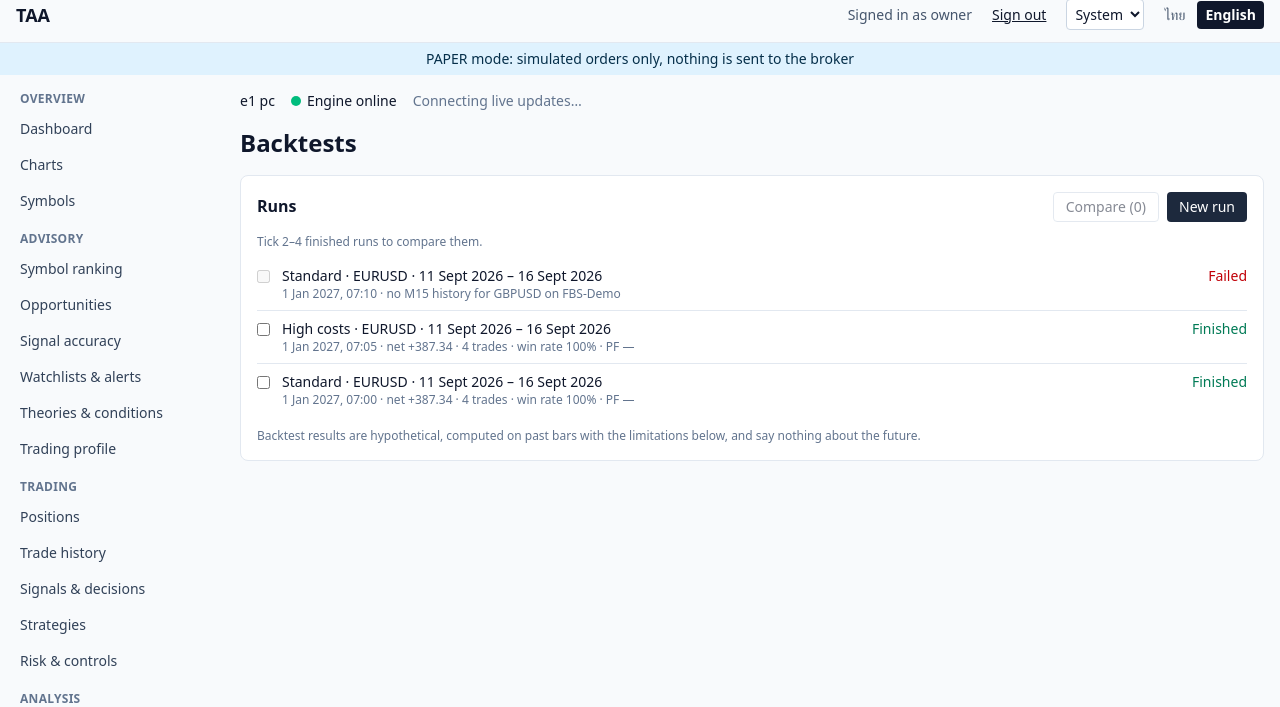
Test: backtests page › compares two finished runs
Expected: the text "High costs · EURUSD · 11 Sept 2026 – 16 Sept 2026" is shown, [282,319,611,339]
Expected: the 1st checkbox named "Select EURUSD · 11 Sept 2026 – 16 Sept 2026" is disabled, [257,270,270,283]
Click the 3rd checkbox named "Select EURUSD · 11 Sept 2026 – 16 Sept 2026" at [264, 382], box [257,376,270,389]
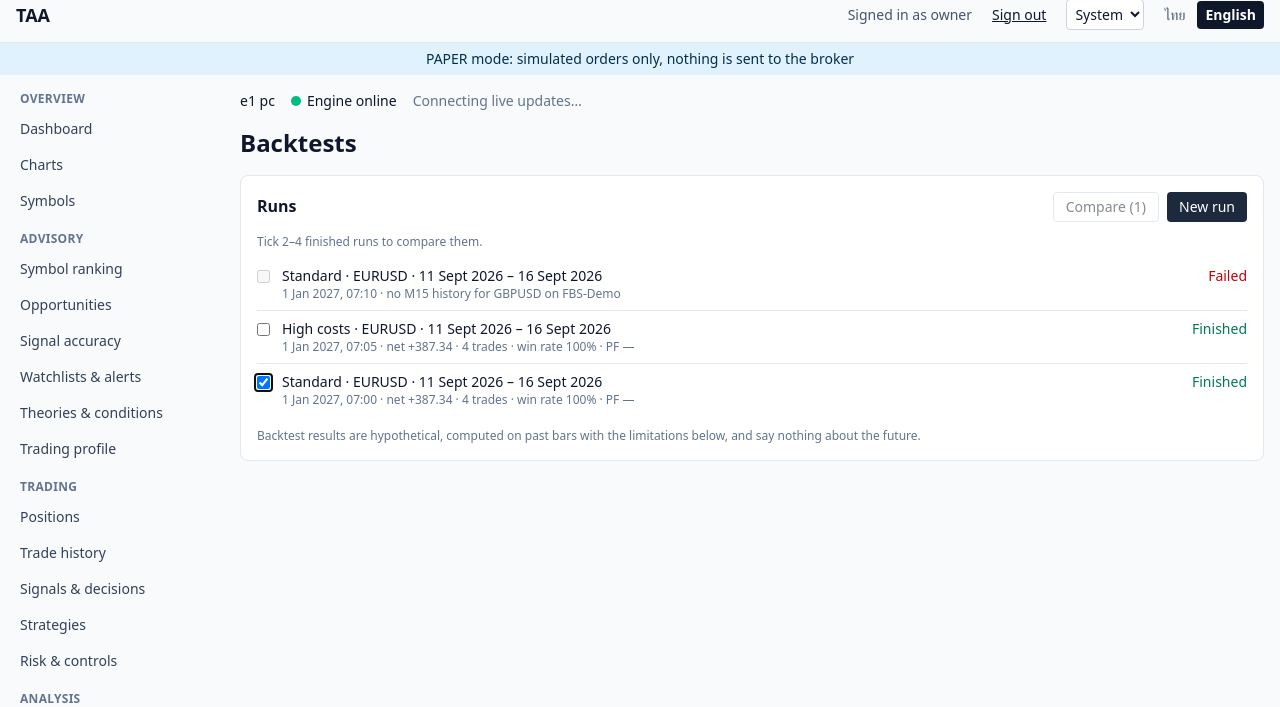
Click the 2nd checkbox named "Select EURUSD · 11 Sept 2026 – 16 Sept 2026" at [264, 330], box [257,323,270,336]
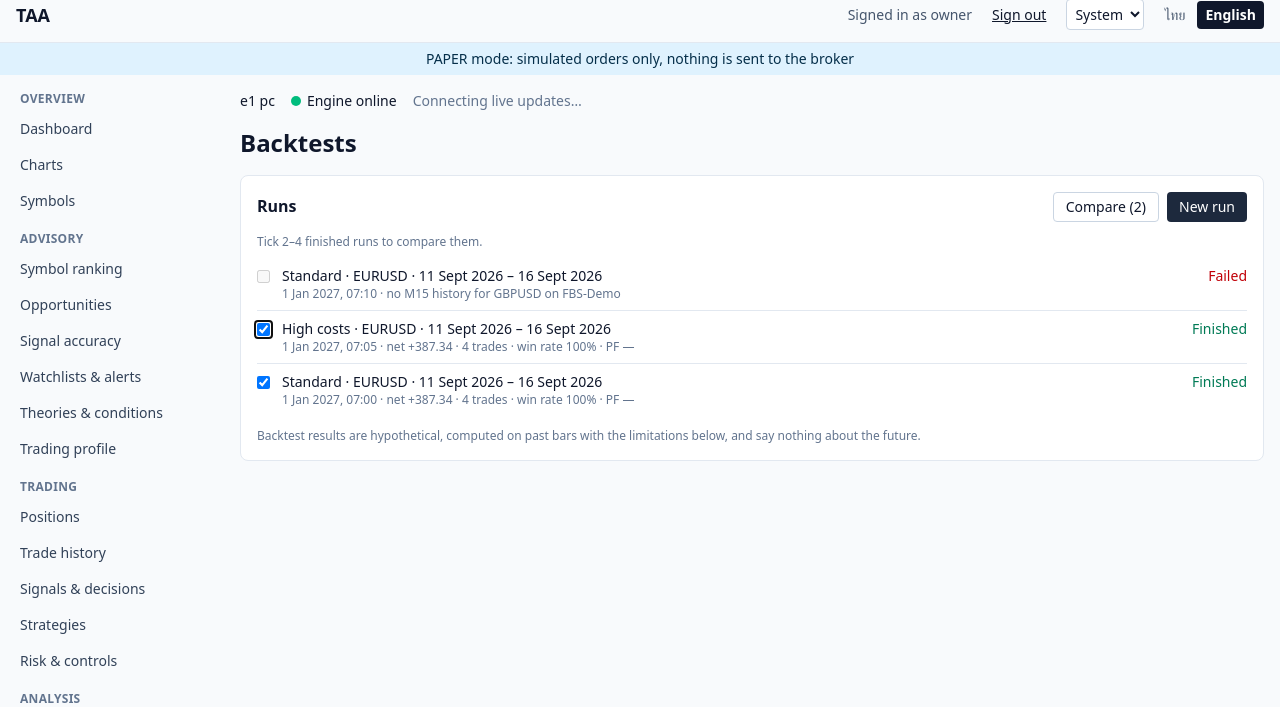
Click the button "Compare (2)" at [1106, 207], box [1053,192,1159,222]
(page scrolled)
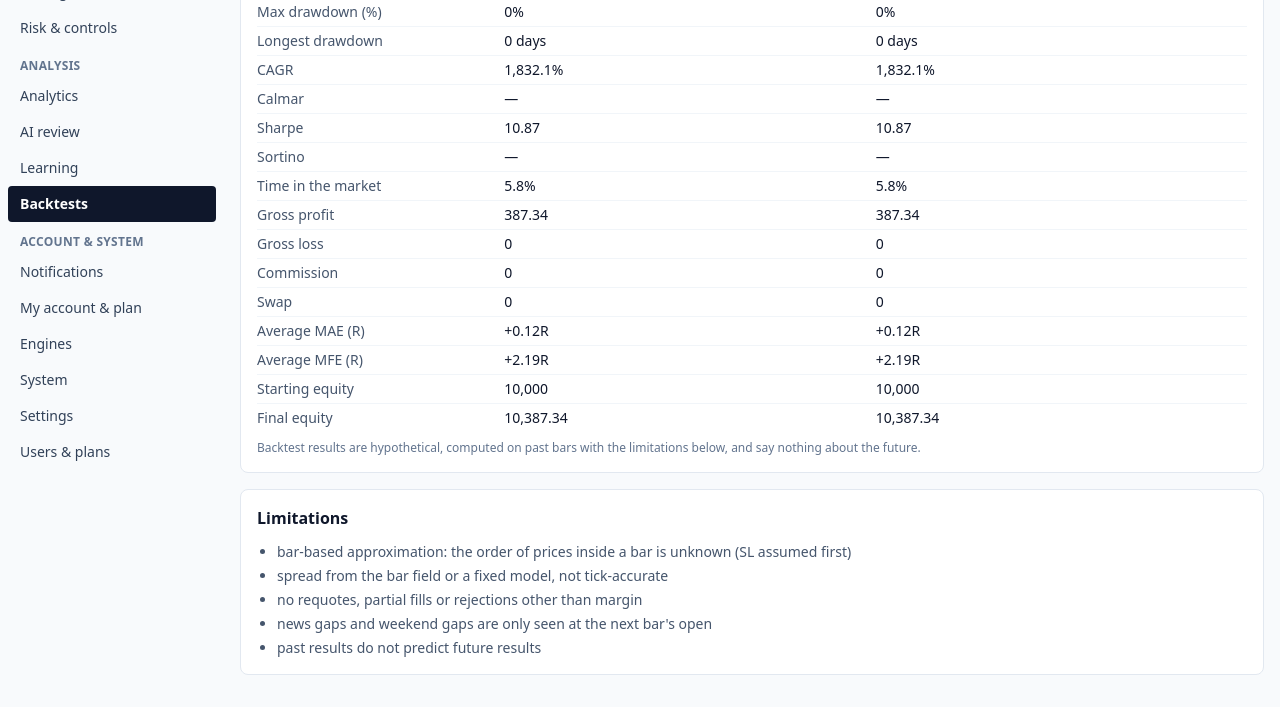
Expected: the list item "past results do not predict future results" is shown, [277,638,541,657]
